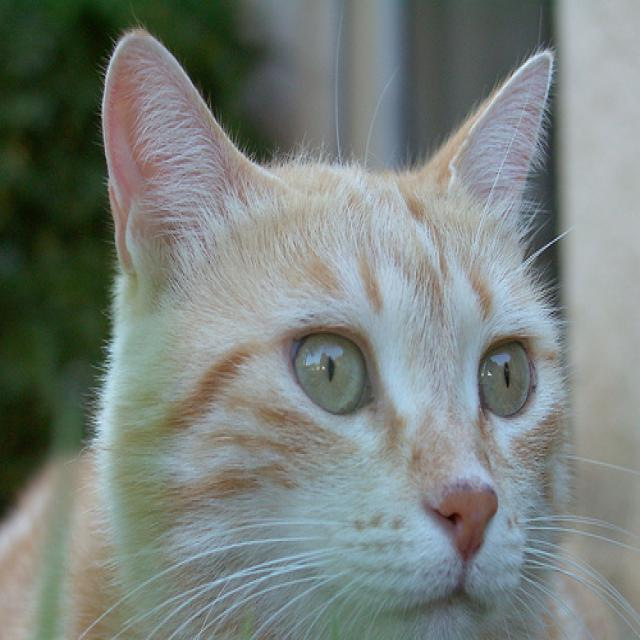left eye: (476, 333, 538, 420)
